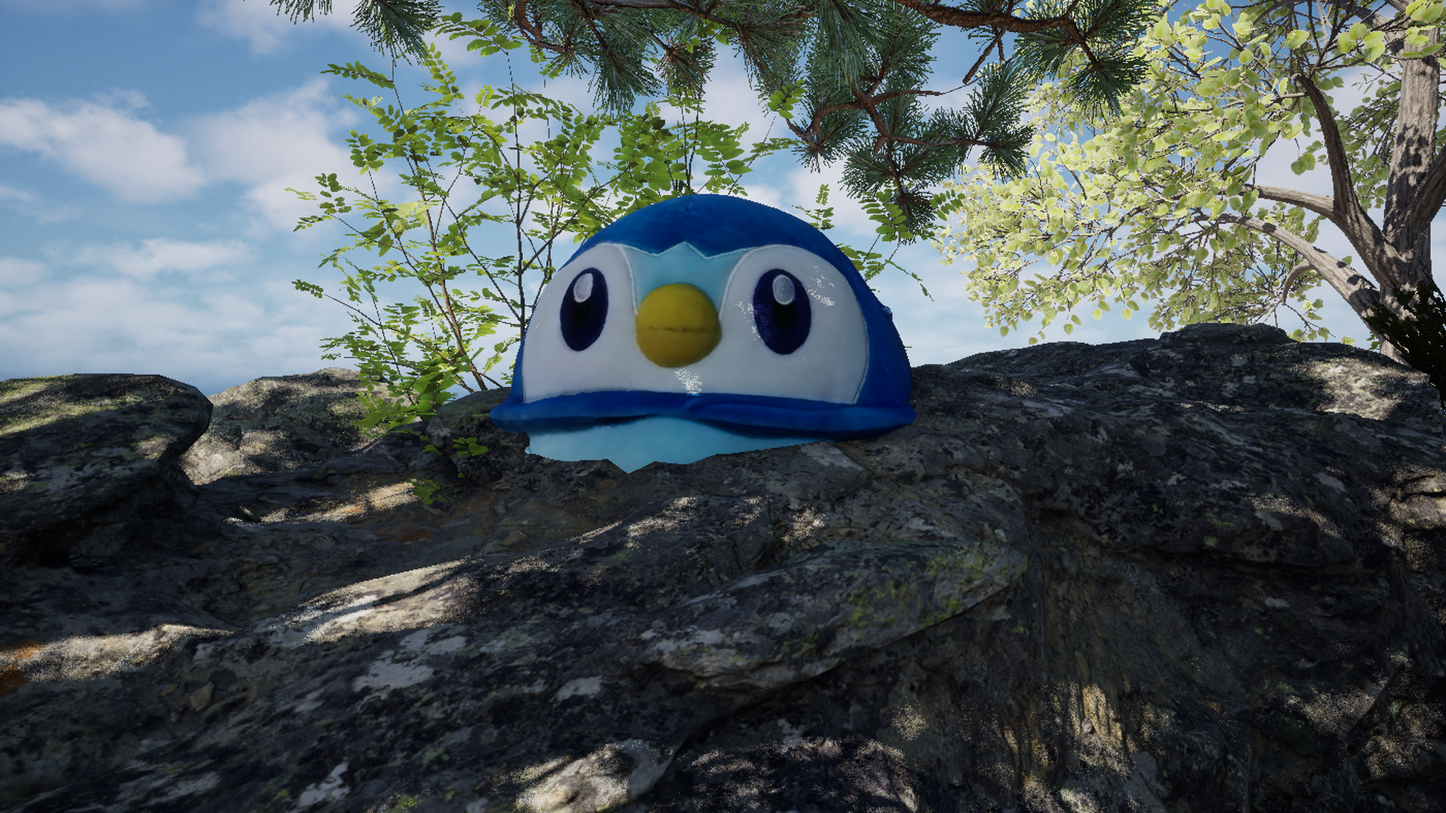Piplup: (391, 0, 1160, 813)
